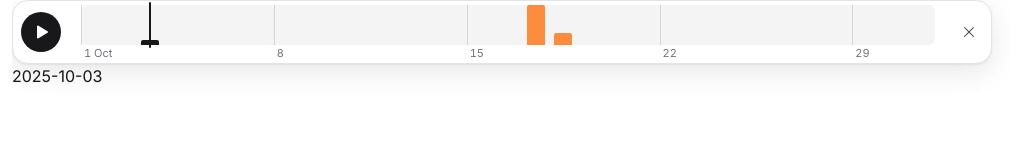
Scenario: the days of a month in the player of the calendar › plays the days that had fires, one after another, and stops after the last
The image size is (1011, 160).
Later steps or results of the test are not shown.
Click the button named "Play days".
click(41, 32)  # box [21,12,61,52]
Wait 2800 ms
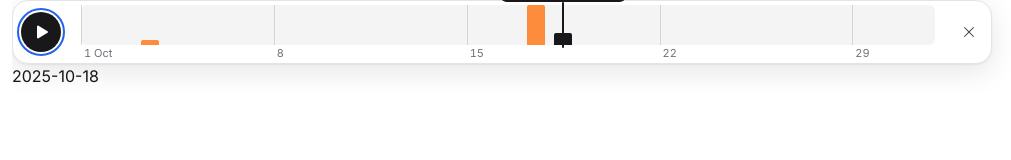
Check: the text "2025-10-18" is shown, box [12,66,99,86]
